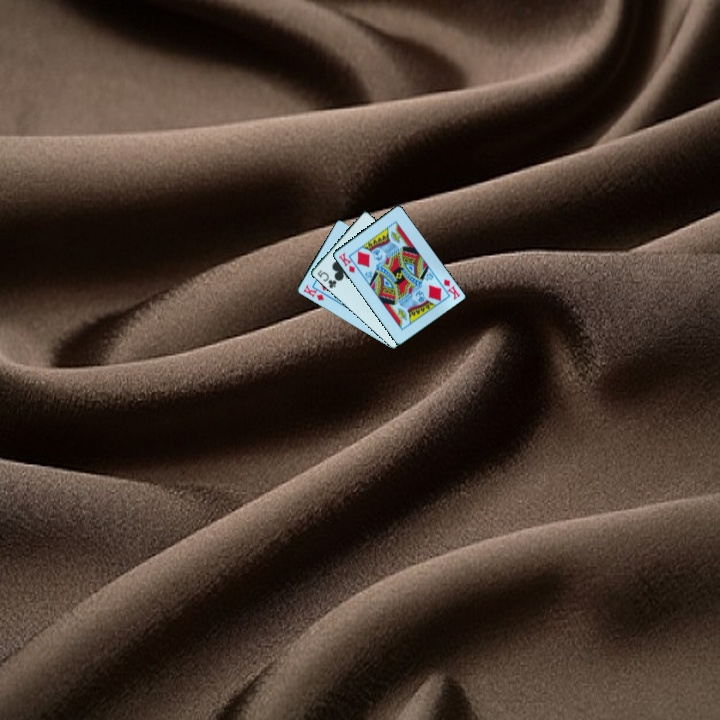5c: (314, 266, 339, 291)
Kd: (440, 275, 463, 303), (335, 249, 358, 276), (300, 281, 327, 303)
